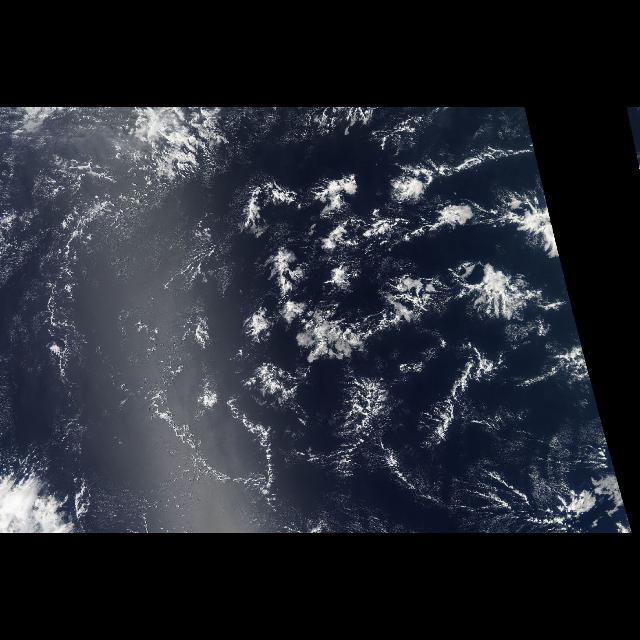Flower: (163, 148, 587, 490)
Sugar: (0, 195, 224, 449)
